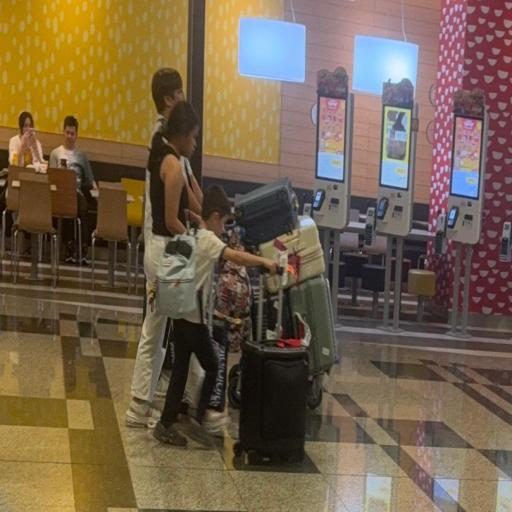person_right: (146, 99, 228, 439)
person_with_luggage_right: (152, 186, 280, 446), (124, 67, 202, 429)
